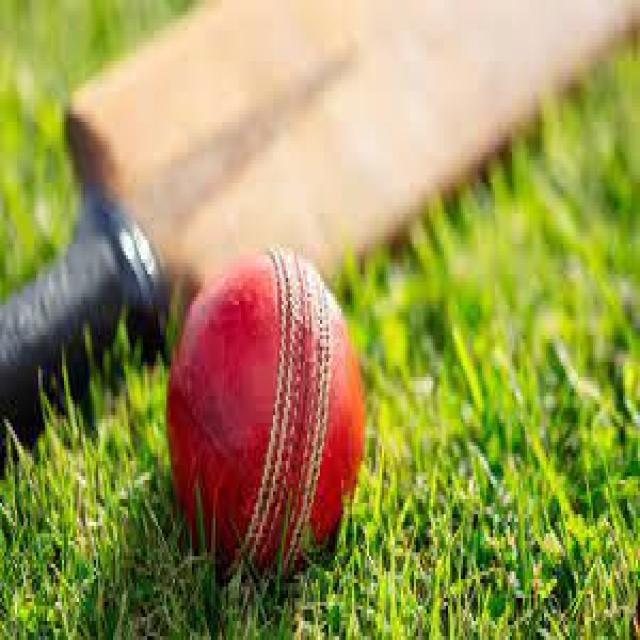ball: (166, 248, 363, 568)
